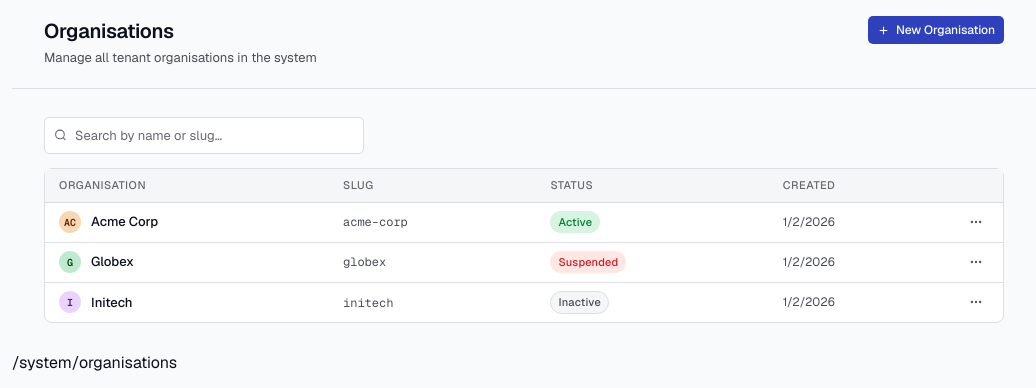
Scenario: the search box › matches on a slug, ignoring case
The image size is (1036, 388).
Expected: the text "Acme Corp" is shown, [91,212,158,232]
Type "ACME" into the field with placeholder "Search by name or slug…".
click(204, 135); type("ACME")  # box [44,116,364,154]
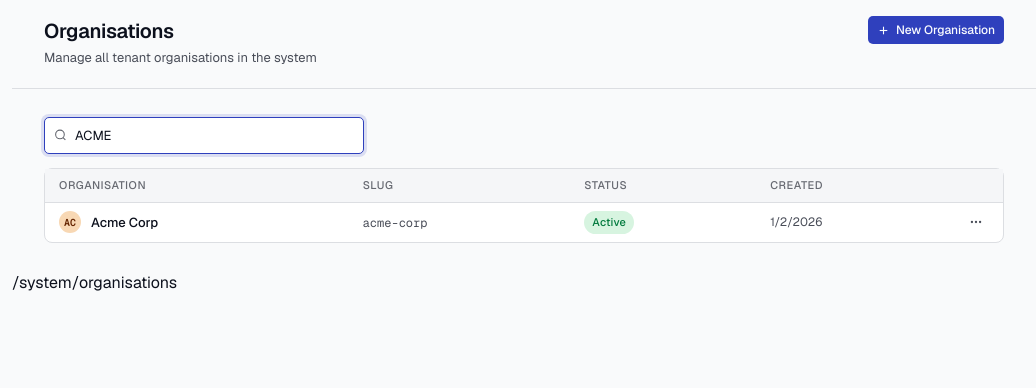
Expected: the text "Acme Corp" is shown, [91,212,158,232]
Now the number of rows is 2, box [45,169,1003,202]; [45,202,1003,242]
